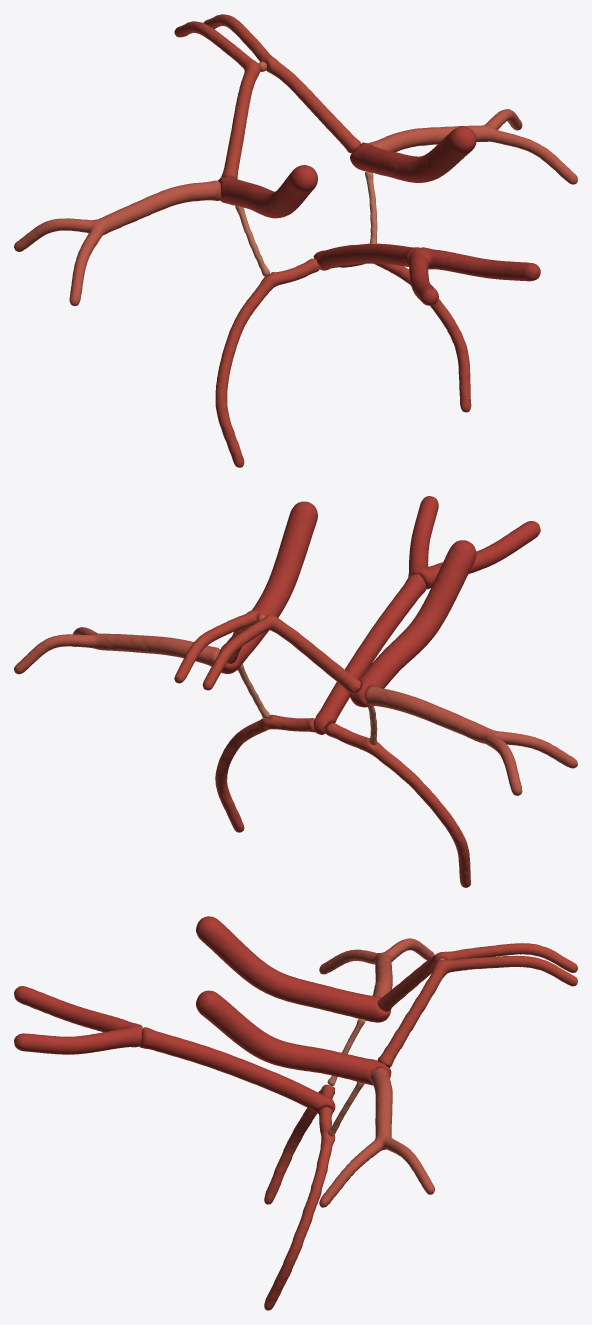
Rendered from willis_normal.glb.
The picture shows the model from 3 angles, top to bottom: view 1: azimuth 30°, elevation 25°; view 2: azimuth 150°, elevation 25°; view 3: azimuth 270°, elevation 25°; orthographic projection. The views are drawn at different scales.
Parts seen in each view (by area): view 1: middle_cerebrals, internal_carotids, anterior_cerebrals, posterior_cerebrals, vertebral_arteries, basilar_artery, posterior_communicatings; view 2: internal_carotids, middle_cerebrals, posterior_cerebrals, anterior_cerebrals, basilar_artery, vertebral_arteries, posterior_communicatings; view 3: internal_carotids, anterior_cerebrals, middle_cerebrals, vertebral_arteries, basilar_artery, posterior_cerebrals, posterior_communicatings.
Part boxes in pixels (x1,y1,x2,y2): middle_cerebrals: [14, 109, 577, 306]; internal_carotids: [218, 126, 476, 218]; anterior_cerebrals: [174, 14, 360, 178]; posterior_cerebrals: [215, 258, 471, 467]; vertebral_arteries: [408, 247, 540, 305]; basilar_artery: [313, 243, 419, 270]; posterior_communicatings: [235, 171, 377, 276]; internal_carotids: [219, 501, 476, 707]; middle_cerebrals: [14, 627, 577, 795]; posterior_cerebrals: [215, 714, 470, 887]; anterior_cerebrals: [174, 610, 360, 693]; basilar_artery: [313, 573, 426, 734]; vertebral_arteries: [408, 496, 540, 589]; posterior_communicatings: [237, 664, 377, 745]; internal_carotids: [196, 916, 391, 1085]; anterior_cerebrals: [377, 943, 577, 1067]; middle_cerebrals: [319, 938, 434, 1207]; vertebral_arteries: [14, 986, 142, 1054]; basilar_artery: [139, 1027, 335, 1113]; posterior_cerebrals: [264, 1084, 335, 1310]; posterior_communicatings: [327, 1018, 365, 1136].
Size of the model in its own units: 17.9 by 10.8 by 17.99.
